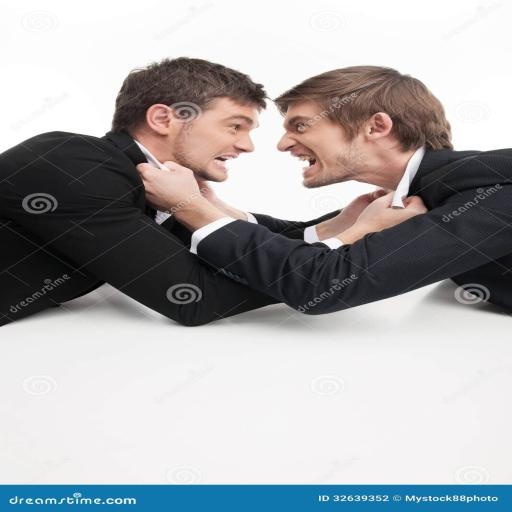fight: (48, 42, 461, 315)
